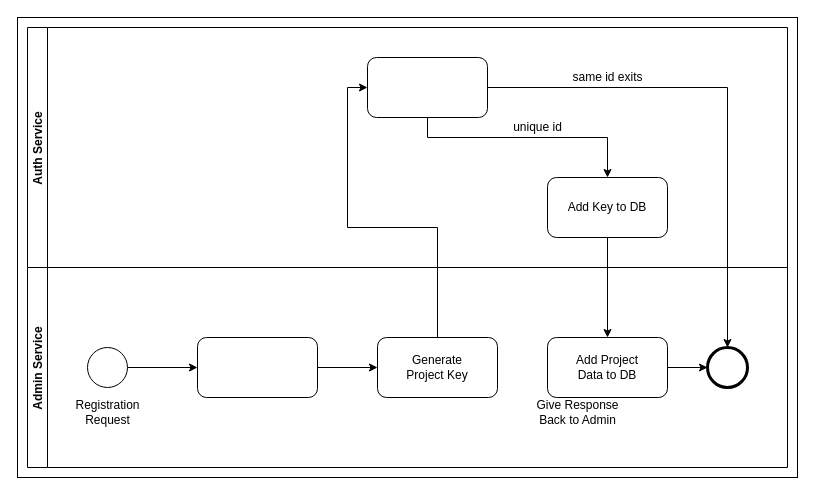
This 815x495 diagram has some shape labels left out. The shapes that lost their labels are listed below. From the top down, each one's centre as x and y in pixels, then its label:
At (427,87): "Check if same id exits".
At (257,367): "Verify Admin".
